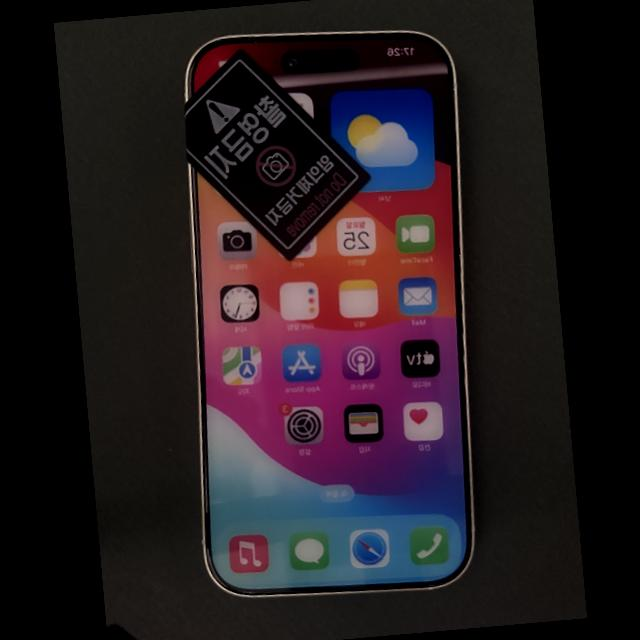lens: (286, 56, 298, 68)
phone: (184, 31, 473, 596)
sticker: (183, 47, 371, 260)
